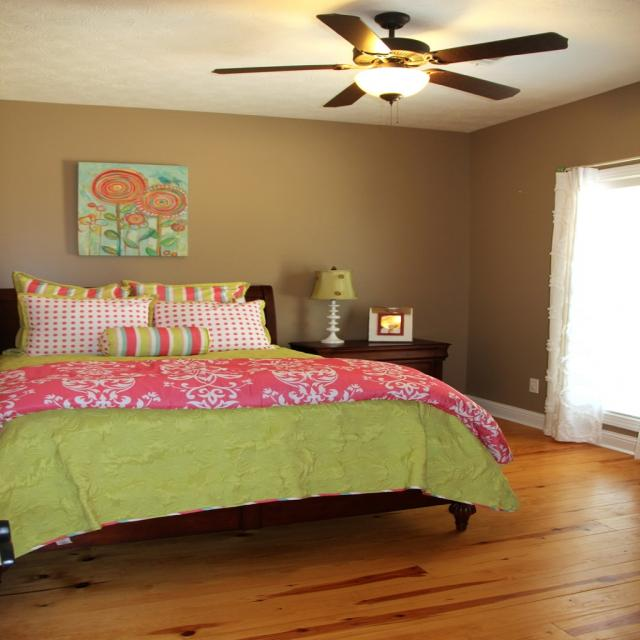Bulb: (212, 9, 563, 127)
